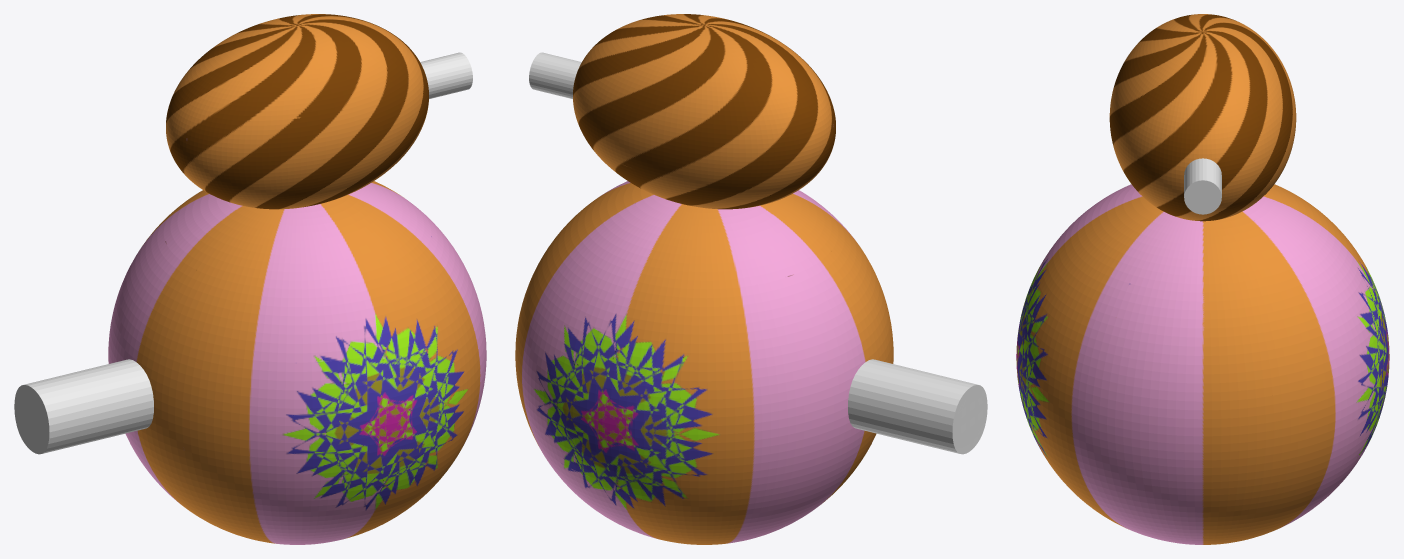
The model's file is BouncyStim3.fbx.
The picture shows the model from 3 angles, left to right: view 1: azimuth 30°, elevation 25°; view 2: azimuth 150°, elevation 25°; view 3: azimuth 270°, elevation 25°; orthographic projection.
Visible parts, largest first — view 1: Body, Arm, Ear; view 2: Body, Arm, Ear; view 3: Body, Ear.
Boxes of the visible parts, left/top/right/bottom form: Body: left=108, top=14, right=486, bottom=544; Arm: left=14, top=359, right=153, bottom=454; Ear: left=420, top=52, right=472, bottom=98; Body: left=515, top=14, right=893, bottom=544; Arm: left=848, top=359, right=987, bottom=454; Ear: left=529, top=52, right=581, bottom=98; Body: left=1016, top=14, right=1389, bottom=544; Ear: left=1184, top=158, right=1221, bottom=214.
Size of the model in its own units: 65 by 72.41 by 49.36.
